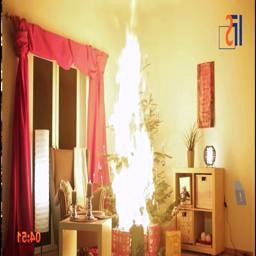fire: (95, 0, 175, 236)
